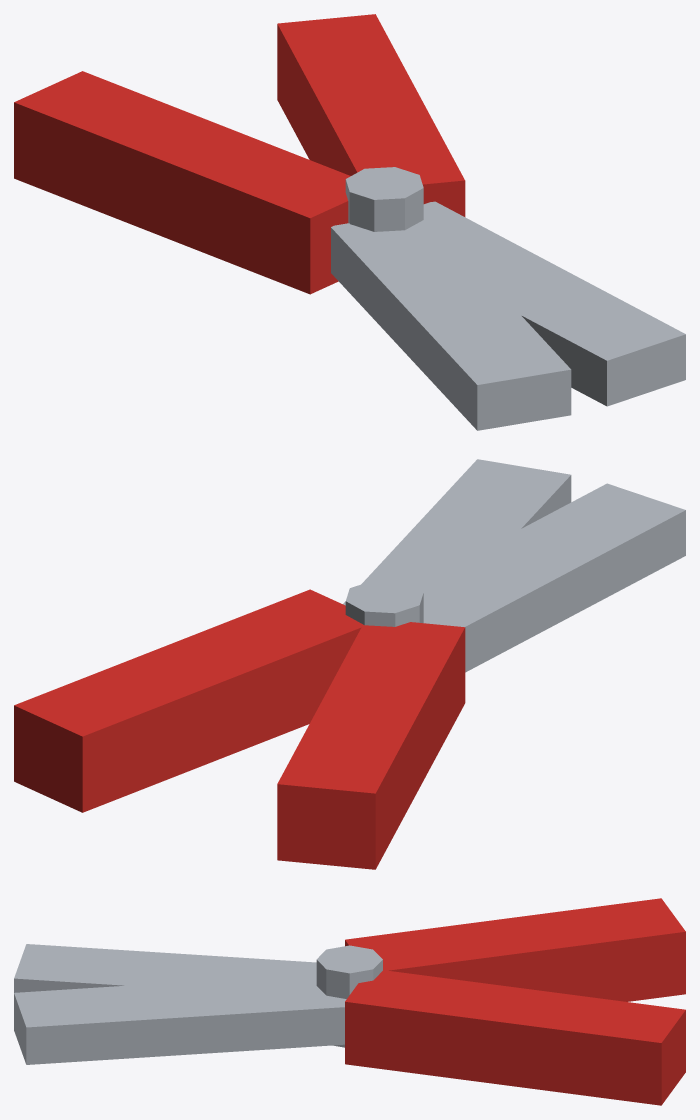
File: nursery_shears.glb
3 renders of one model, top to bottom at view 1: azimuth 30°, elevation 25°; view 2: azimuth 150°, elevation 25°; view 3: azimuth 270°, elevation 25°, orthographic. The views are drawn at different scales.
Visible parts, largest first — view 1: handle_shears_red, blade_shears_steel, pin_shears_steel; view 2: handle_shears_red, blade_shears_steel, pin_shears_steel; view 3: handle_shears_red, blade_shears_steel, pin_shears_steel.
Part boxes in pixels (x1,y1,x2,y2): handle_shears_red: (14,14,465,294); blade_shears_steel: (331,201,685,430); pin_shears_steel: (345,167,423,231); handle_shears_red: (14,589,465,869); blade_shears_steel: (343,459,685,672); pin_shears_steel: (345,580,423,626); handle_shears_red: (345,898,685,1105); blade_shears_steel: (14,944,346,1064); pin_shears_steel: (316,945,382,1047).
Bounding box in the file's own units: 0.1241 × 0.03 × 0.2433.
